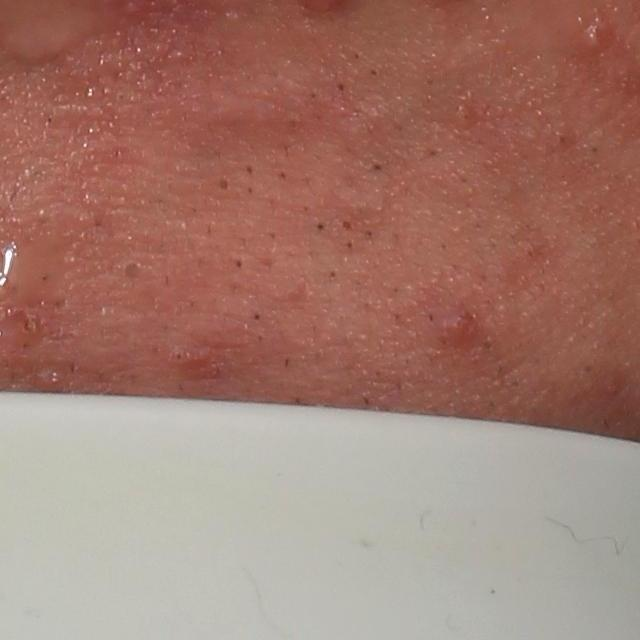comedo: (117, 256, 149, 287), (213, 175, 235, 195), (250, 312, 263, 326), (342, 218, 354, 232)
papule: (167, 330, 243, 394), (425, 298, 490, 353), (571, 10, 630, 57)
